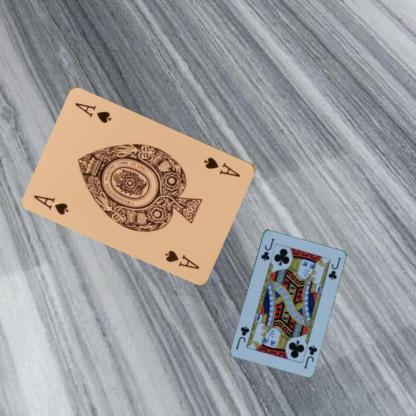As: (201, 154, 242, 179), (31, 192, 71, 216)
Jc: (301, 342, 318, 370), (258, 236, 275, 262)
